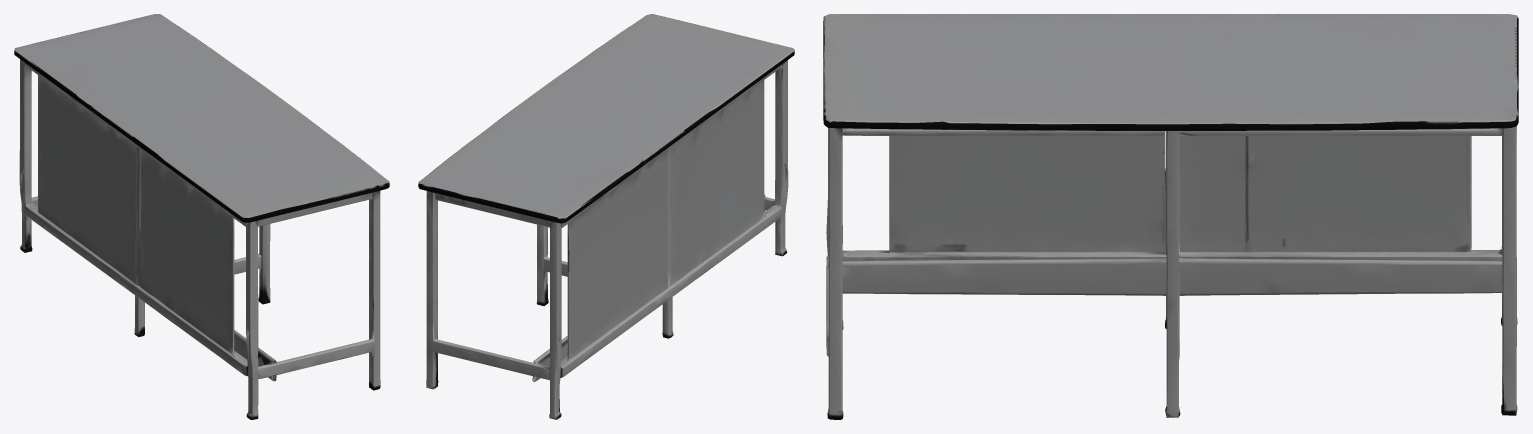
File: 实验桌.glb
3 views of the same model, side by side, from view 1: azimuth 30°, elevation 25°; view 2: azimuth 150°, elevation 25°; view 3: azimuth 270°, elevation 25° (orthographic). The views are drawn at different scales.
Visible parts, largest first — view 1: tmpjziley4r.obj; view 2: tmpjziley4r.obj; view 3: tmpjziley4r.obj.
Part boxes in pixels (left/top/right/bottom): tmpjziley4r.obj: left=14, top=14, right=389, bottom=419; tmpjziley4r.obj: left=418, top=14, right=794, bottom=419; tmpjziley4r.obj: left=823, top=14, right=1518, bottom=419.
Size of the model in its own units: 0.3752 by 0.4861 by 0.9999.
1 material, 1 textured.
